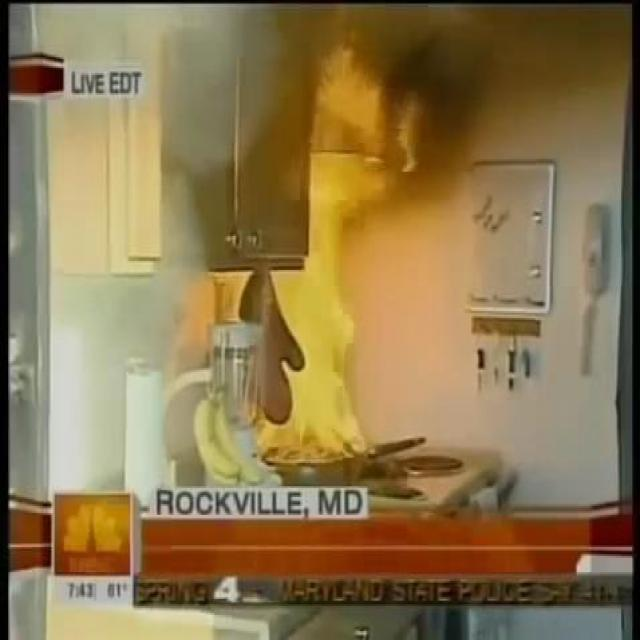fire: (260, 57, 470, 466)
